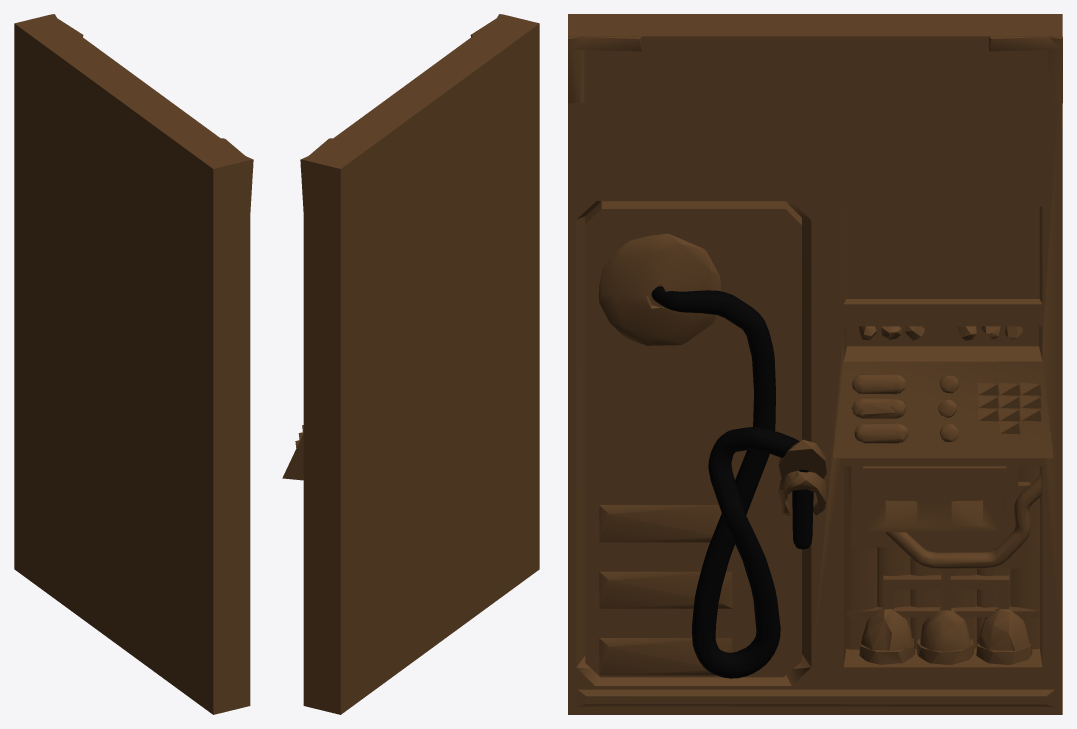
Rendered from ev_charger.glb.
3 views of the same model, side by side, from view 1: azimuth 30°, elevation 25°; view 2: azimuth 150°, elevation 25°; view 3: azimuth 270°, elevation 25° (orthographic). The views are drawn at different scales.
Visible parts, largest first — view 1: body; view 2: body; view 3: body.
Boxes of the visible parts, x1,y1,x2,y2 form: body: (14, 14, 253, 714); body: (282, 14, 539, 714); body: (568, 14, 1062, 714).
Bounding box in the file's own units: 0.2227 × 1.7 × 1.12.
